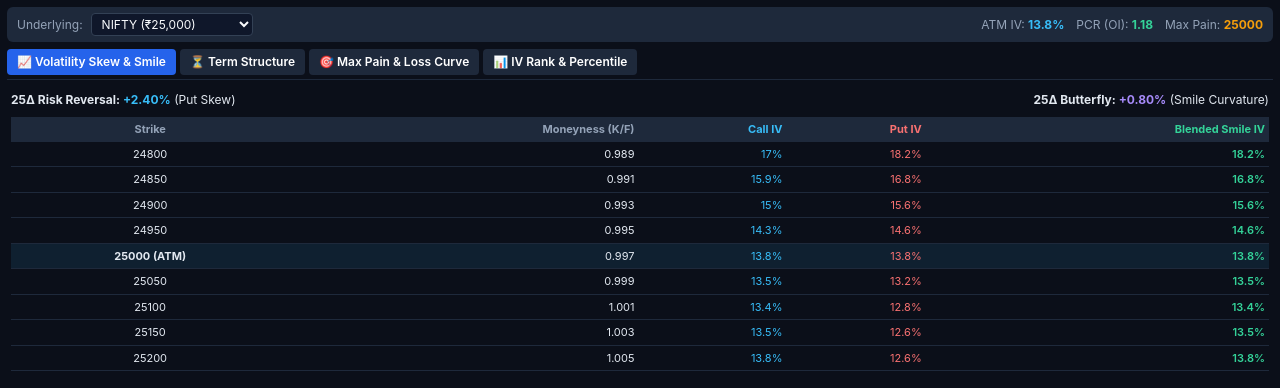
it: OptionsAnalyticsPanel Component › switches to IV Rank & Percentile tab
What coordinates should you click on to do the following:
click the button "📊 IV Rank & Percentile"
I would click on:
 (560, 62)
Its box is [483,49,637,75].
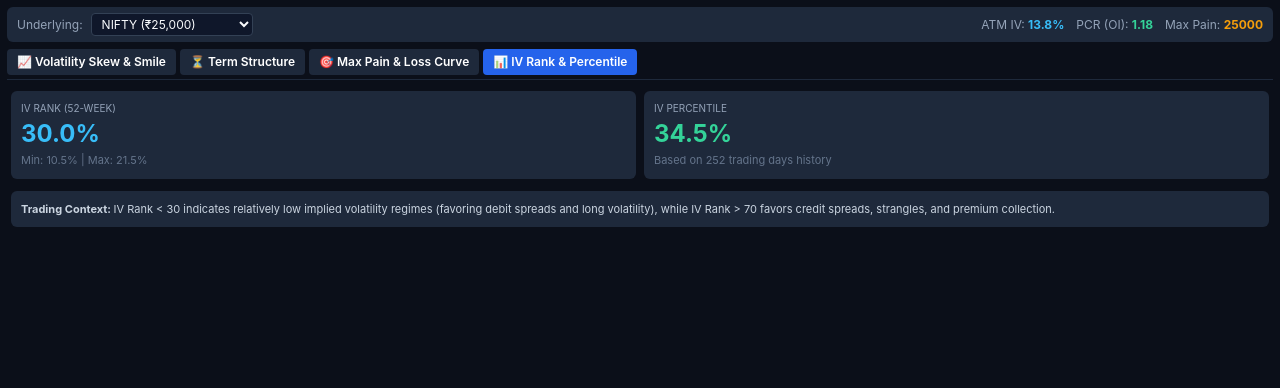
Expected: the element with test id "tab-ivrank" is shown, [11,91,1269,227]
Expected: the text "IV Rank (52-Week)" is shown, [21,102,116,114]
Expected: the text "IV Percentile" is shown, [654,102,727,114]
